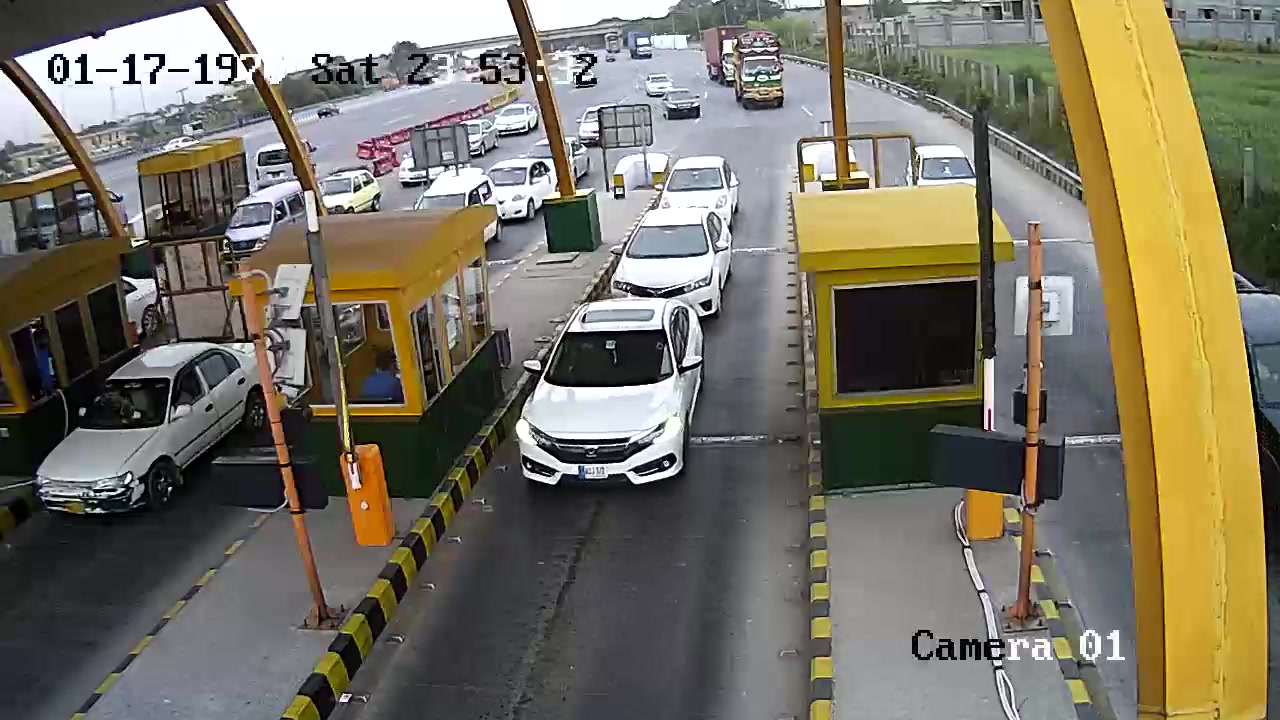F1: (507, 296, 717, 493)
